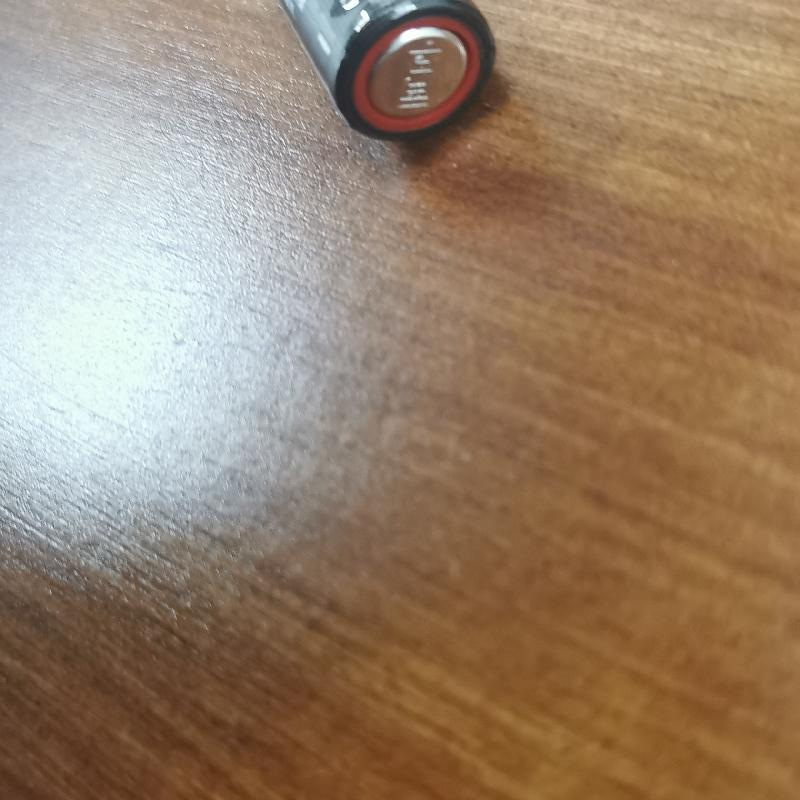battery: (264, 1, 508, 150)
